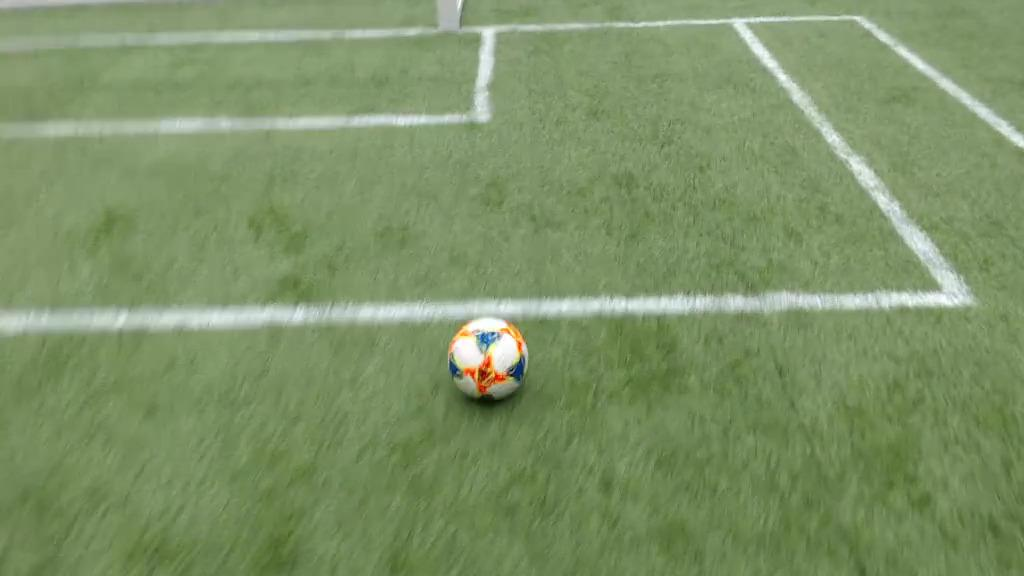ball: (447, 317, 528, 406)
